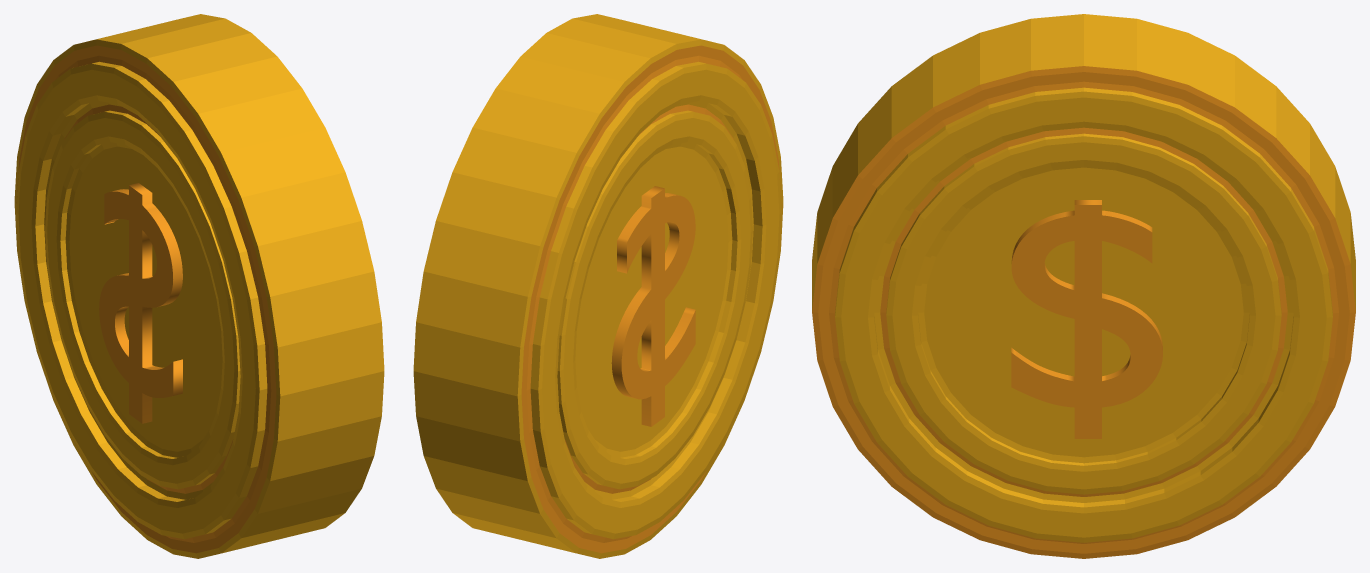
Rendered from moedaV2.fbx.
3 renders of one model, left to right at view 1: azimuth 30°, elevation 25°; view 2: azimuth 150°, elevation 25°; view 3: azimuth 270°, elevation 25°, orthographic. The views are drawn at different scales.
Parts seen in each view (by area): view 1: Cylinder, Text; view 2: Cylinder, Text; view 3: Cylinder, Text.
Boxes of the visible parts, <box> form: Cylinder: <box>14,14,384,558</box>; Text: <box>99,183,182,423</box>; Cylinder: <box>413,14,783,558</box>; Text: <box>611,186,695,426</box>; Cylinder: <box>812,14,1355,558</box>; Text: <box>1011,200,1162,438</box>.
Size of the model in its own units: 25.1 by 92.74 by 92.74.
